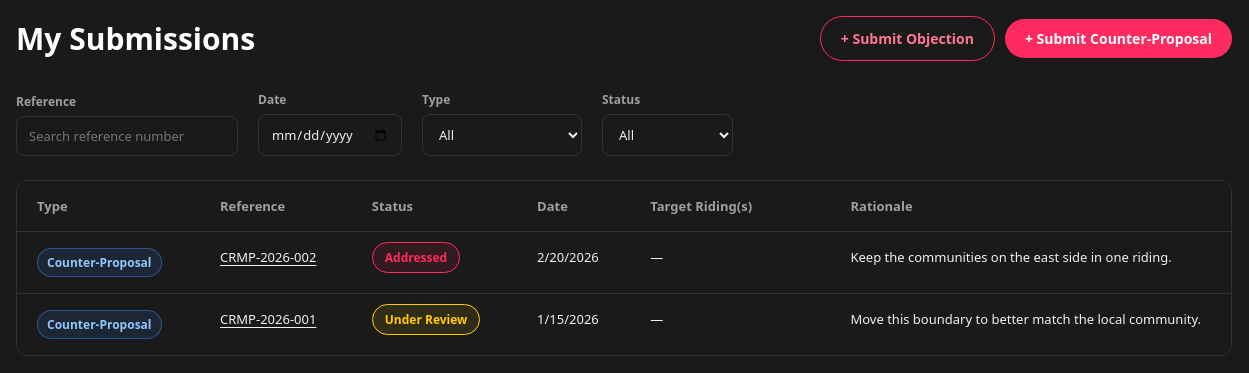
Test: filters submissions by selected date
Expected: the text "CRMP-2026-001" is shown, [200,294,352,355]
Type "2026-01-15" into the date field labelled "Date".
click(330, 135); type("2026-01-15")  # box [258,114,402,156]
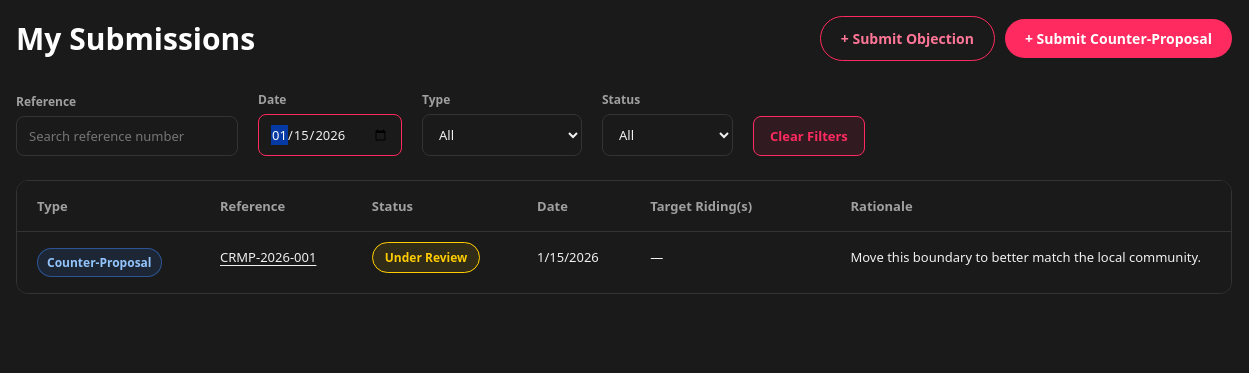
Expected: the text "CRMP-2026-001" is shown, [200,232,352,293]
Now the text "CRMP-2026-002" is gone
